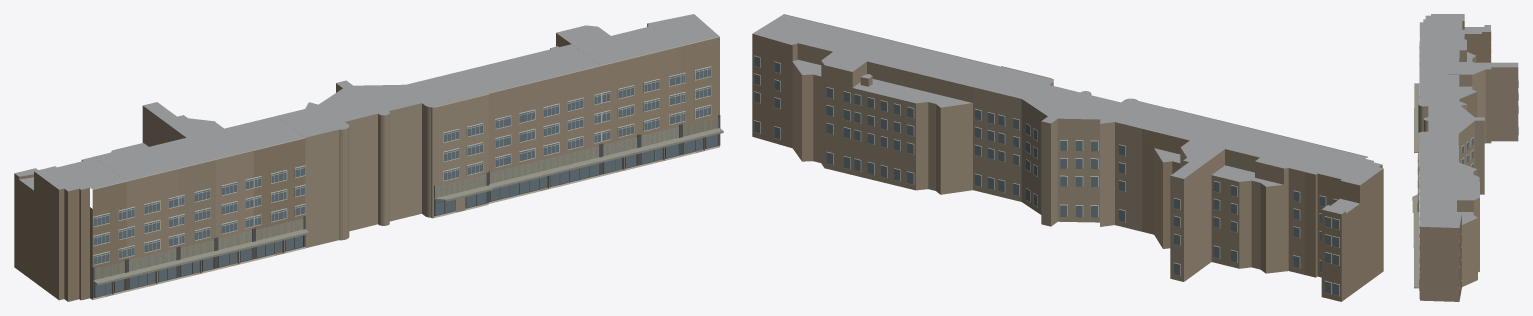
File: chunk-face-evertsen-68-92.glb
3 renders of one model, left to right at view 1: azimuth 30°, elevation 25°; view 2: azimuth 150°, elevation 25°; view 3: azimuth 270°, elevation 25°, orthographic. The views are drawn at different scales.
Parts seen in each view (by area): view 1: face-evertsen-68-92; view 2: face-evertsen-68-92; view 3: face-evertsen-68-92.
Boxes of the visible parts, x1,y1,x2,y2 form: face-evertsen-68-92: (14, 14, 723, 301); face-evertsen-68-92: (752, 14, 1383, 301); face-evertsen-68-92: (1412, 14, 1518, 301).
Size of the model in its own units: 104 by 16.79 by 21.76.
